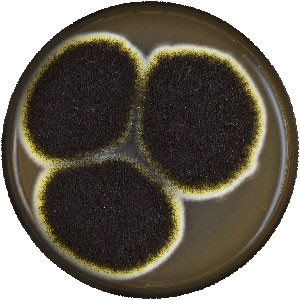Aspergillus: (42, 48, 252, 242)
